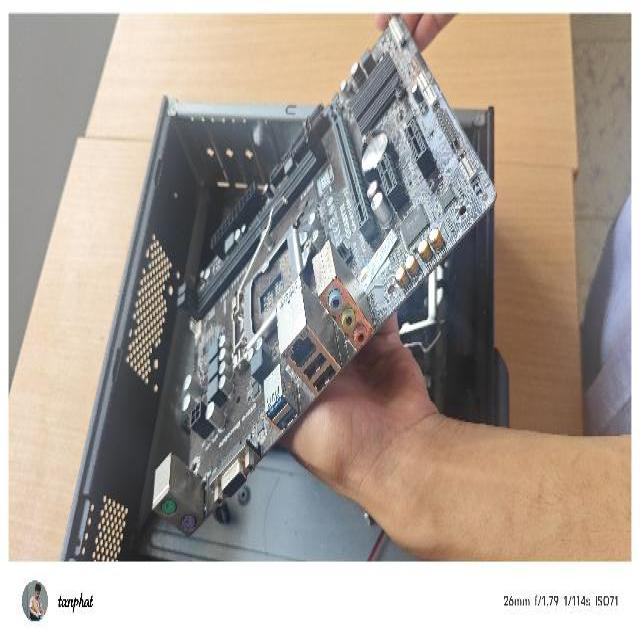Mainboard: (150, 10, 497, 536)
